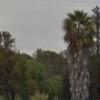Palm tree: (61, 11, 100, 100)
